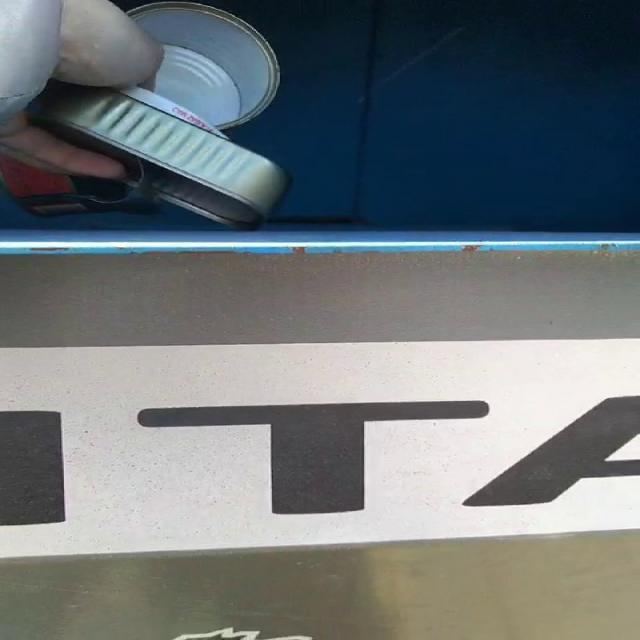bin: (0, 0, 639, 640)
metal: (3, 2, 288, 228)
